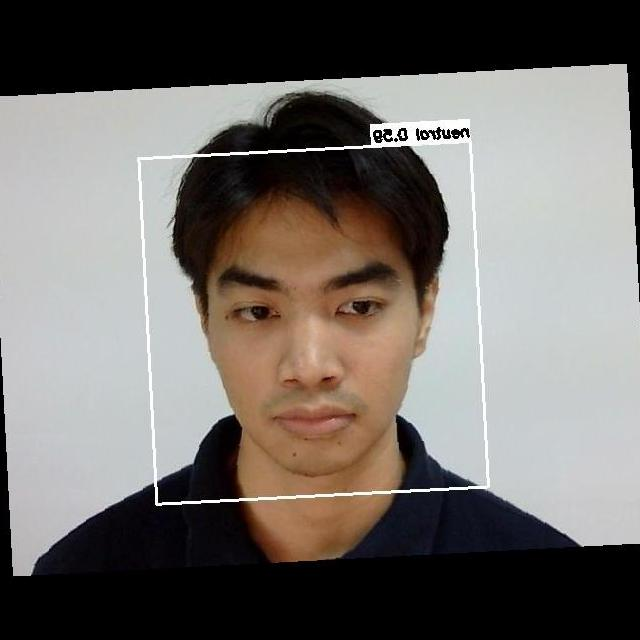Natural: (208, 254, 423, 455)
